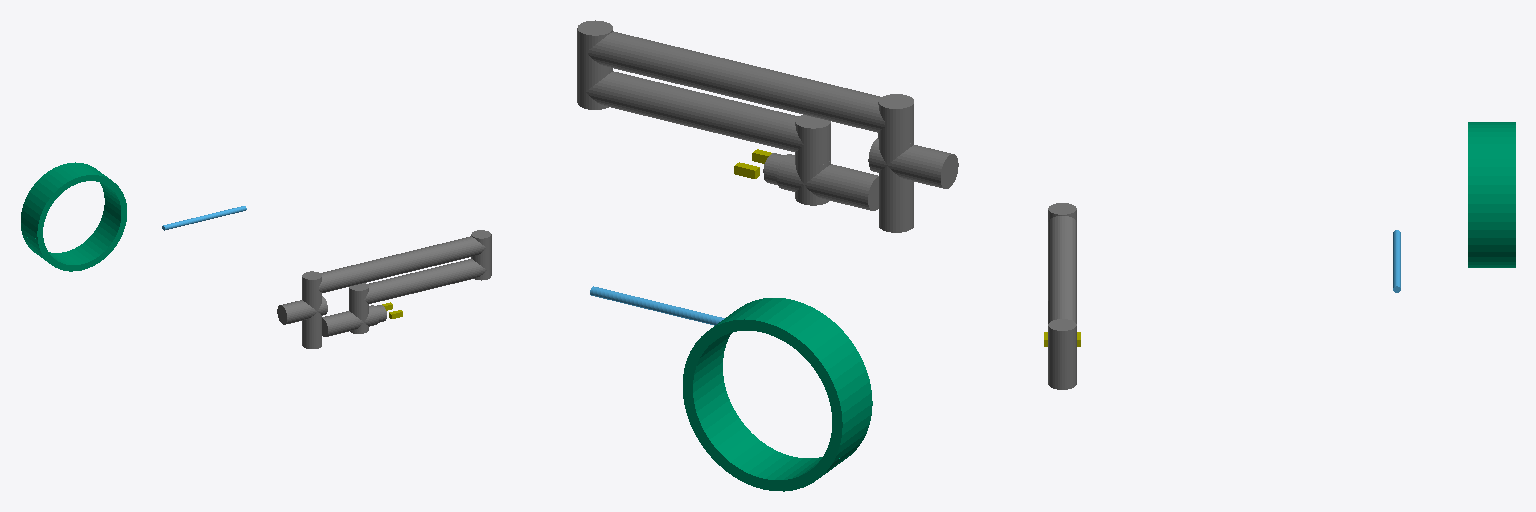
--- Render facts (derived) ---
The picture shows the robot from 3 angles, left to right: view 1: azimuth 30°, elevation 25°; view 2: azimuth 150°, elevation 25°; view 3: azimuth 270°, elevation 25°; orthographic projection.
Model satellite_with_arm with 14 links and 13 joints (7 revolute, 2 prismatic, 4 fixed), rooted at satellite_with_arm, posed all joints at 0 but 2 set to mid-range because 0 is outside their limits (finger_right_prismatic = 0.055, finger_left_prismatic = 0.055).
Links seen in each view (by area): view 1: base_ring, Link2, Link4, Link5, Link3, Link6, Link1; view 2: base_ring, Link2, Link4, Link5, Link3, Link6, Link1, base_urdf, ring1; view 3: base_ring, Link2, Link3, Link4.
Boxes of the visible links, <box> form: base_ring: <box>21,162,126,271</box>; Link2: <box>302,247,434,300</box>; Link4: <box>410,255,491,293</box>; Link5: <box>349,274,415,311</box>; Link3: <box>429,230,491,265</box>; Link6: <box>322,305,378,336</box>; Link1: <box>295,296,327,348</box>; base_ring: <box>683,298,872,491</box>; Link2: <box>679,51,913,145</box>; Link4: <box>577,66,722,132</box>; Link5: <box>712,98,830,165</box>; Link3: <box>577,20,691,84</box>; Link6: <box>778,154,878,210</box>; Link1: <box>868,138,925,232</box>; base_urdf: <box>914,148,958,188</box>; ring1: <box>590,286,724,325</box>; base_ring: <box>1468,122,1515,267</box>; Link2: <box>1048,203,1076,300</box>; Link3: <box>1048,290,1076,360</box>; Link4: <box>1048,355,1076,389</box>.
Size in the robot's own frame: 2.64 by 2.48 by 0.7713 metres.
Meshes: 9 distinct files referenced, 8 mesh visuals loaded (8 binary STL); not drawn: 1 (reference not matched to a file when rendering).

robot.urdf — satellite_with_arm:
  
<robot name="satellite_with_arm">
  <material name="metal_grey">
    <color rgba="0.501960784313725 0.501960784313725 0.501960784313725 1"/>
  </material>
    <material name="yellow">
    <color rgba="0.7 0.7 0 1"/>
  </material>
  <link name="satellite_with_arm">
    <inertial>
      <mass value="100" />
      <!-- center of mass (com) is defined w.r.t. link local coordinate system -->
      <!-- give a little y-offset to make the top precess -->
      <origin xyz="0 0 0" /> 
      <inertia  ixx=" 45.3333" ixy="0.0"  ixz="0.0"  iyy=" 45.3333"  iyz="0.0"  izz="24" />
    </inertial>
       <visual>
      <origin xyz="0 0 0" rpy="1.5708 3.141592 3.141592" />
      <geometry>
        <mesh filename="meshes/visual/satellite_with_arm_VISUAL.obj"  />
      </geometry>
    </visual>

    <collision>
      <origin rpy="0 0 0" xyz="-0.14599 -0.63199 0"/>
   <geometry>
       <box size="1.2 2 1.2" />
     </geometry>
    </collision>
  </link>
  <link name="ring1">
 <inertial>
     <mass value="0" />
      <!-- center of mass (com) is defined w.r.t. link local coordinate system -->
      <!-- give a little y-offset to make the top precess -->
      <origin xyz="0 0 0" /> 
      <inertia  ixx="0.0" ixy="0.0"  ixz="0.0"  iyy="0.0"  iyz="0.0"  izz="0.0" />
    </inertial>
       <visual>
      <origin xyz="0 0 0" rpy="1.5708 0 1.5708"/> 
	<geometry>
       <cylinder radius="0.02" length="0.7"/>

     </geometry>
    </visual>    
    <collision>
      <origin xyz="0 0 0" rpy="1.5708 0 1.5708"/> 
	   <geometry>
       <cylinder radius="0.02" length="0.7"/>
            </geometry>
    </collision>    
    

</link>
<link name="base_ring">
 <inertial>
     <mass value="0" />
      <!-- center of mass (com) is defined w.r.t. link local coordinate system -->
      <!-- give a little y-offset to make the top precess -->
      <origin xyz="0 -0.512734 0" /> 
      <inertia  ixx="0.0" ixy="0.0"  ixz="0.0"  iyy="0.0"  iyz="0.0"  izz="0.0" />
    </inertial>
<visual> <origin xyz='0.36 0 0 ' rpy = '0 0 0'/> 	   <geometry><box size='0.05 0.25 0.05' /></geometry> </visual> 
<visual> <origin xyz='0.35704 0 0.046036 ' rpy = '0 -0.12823 0'/> 	   <geometry><box size='0.05 0.25 0.05' /></geometry> </visual> 
<visual> <origin xyz='0.34823 0 0.091316 ' rpy = '0 -0.25646 0'/> 	   <geometry><box size='0.05 0.25 0.05' /></geometry> </visual> 
<visual> <origin xyz='0.33369 0 0.1351 ' rpy = '0 -0.38468 0'/> 	   <geometry><box size='0.05 0.25 0.05' /></geometry> </visual> 
<visual> <origin xyz='0.31367 0 0.17666 ' rpy = '0 -0.51291 0'/> 	   <geometry><box size='0.05 0.25 0.05' /></geometry> </visual> 
<visual> <origin xyz='0.28851 0 0.21532 ' rpy = '0 -0.64114 0'/> 	   <geometry><box size='0.05 0.25 0.05' /></geometry> </visual> 
<visual> <origin xyz='0.25861 0 0.25045 ' rpy = '0 -0.76937 0'/> 	   <geometry><box size='0.05 0.25 0.05' /></geometry> </visual> 
<visual> <origin xyz='0.22446 0 0.28146 ' rpy = '0 -0.8976 0'/> 	   <geometry><box size='0.05 0.25 0.05' /></geometry> </visual> 
<visual> <origin xyz='0.18662 0 0.30785 ' rpy = '0 -1.0258 0'/> 	   <geometry><box size='0.05 0.25 0.05' /></geometry> </visual> 
<visual> <origin xyz='0.14572 0 0.32919 ' rpy = '0 -1.1541 0'/> 	   <geometry><box size='0.05 0.25 0.05' /></geometry> </visual> 
<visual> <origin xyz='0.10243 0 0.34512 ' rpy = '0 -1.2823 0'/> 	   <geometry><box size='0.05 0.25 0.05' /></geometry> </visual> 
<visual> <origin xyz='0.057456 0 0.35539 ' rpy = '0 -1.4105 0'/> 	   <geometry><box size='0.05 0.25 0.05' /></geometry> </visual> 
<visual> <origin xyz='0.011539 0 0.35982 ' rpy = '0 -1.5387 0'/> 	   <geometry><box size='0.05 0.25 0.05' /></geometry> </visual> 
<visual> <origin xyz='-0.034568 0 0.35834 ' rpy = '0 -1.667 0'/> 	   <geometry><box size='0.05 0.25 0.05' /></geometry> </visual> 
<visual> <origin xyz='-0.080108 0 0.35097 ' rpy = '0 -1.7952 0'/> 	   <geometry><box size='0.05 0.25 0.05' /></geometry> </visual> 
<visual> <origin xyz='-0.12433 0 0.33785 ' rpy = '0 -1.9234 0'/> 	   <geometry><box size='0.05 0.25 0.05' /></geometry> </visual> 
<visual> <origin xyz='-0.16651 0 0.31918 ' rpy = '0 -2.0517 0'/> 	   <geometry><box size='0.05 0.25 0.05' /></geometry> </visual> 
<visual> <origin xyz='-0.20596 0 0.29526 ' rpy = '0 -2.1799 0'/> 	   <geometry><box size='0.05 0.25 0.05' /></geometry> </visual> 
<visual> <origin xyz='-0.24203 0 0.2665 ' rpy = '0 -2.3081 0'/> 	   <geometry><box size='0.05 0.25 0.05' /></geometry> </visual> 
<visual> <origin xyz='-0.27412 0 0.23336 ' rpy = '0 -2.4363 0'/> 	   <geometry><box size='0.05 0.25 0.05' /></geometry> </visual> 
<visual> <origin xyz='-0.30171 0 0.19639 ' rpy = '0 -2.5646 0'/> 	   <geometry><box size='0.05 0.25 0.05' /></geometry> </visual> 
<visual> <origin xyz='-0.32435 0 0.1562 ' rpy = '0 -2.6928 0'/> 	   <geometry><box size='0.05 0.25 0.05' /></geometry> </visual> 
<visual> <origin xyz='-0.34166 0 0.11344 ' rpy = '0 -2.821 0'/> 	   <geometry><box size='0.05 0.25 0.05' /></geometry> </visual> 
<visual> <origin xyz='-0.35336 0 0.068817 ' rpy = '0 -2.9493 0'/> 	   <geometry><box size='0.05 0.25 0.05' /></geometry> </visual> 
<visual> <origin xyz='-0.35926 0 0.023065 ' rpy = '0 -3.0775 0'/> 	   <geometry><box size='0.05 0.25 0.05' /></geometry> </visual> 
<visual> <origin xyz='-0.35926 0 -0.023065 ' rpy = '0 -3.2057 0'/> 	   <geometry><box size='0.05 0.25 0.05' /></geometry> </visual> 
<visual> <origin xyz='-0.35336 0 -0.068817 ' rpy = '0 -3.3339 0'/> 	   <geometry><box size='0.05 0.25 0.05' /></geometry> </visual> 
<visual> <origin xyz='-0.34166 0 -0.11344 ' rpy = '0 -3.4622 0'/> 	   <geometry><box size='0.05 0.25 0.05' /></geometry> </visual> 
<visual> <origin xyz='-0.32435 0 -0.1562 ' rpy = '0 -3.5904 0'/> 	   <geometry><box size='0.05 0.25 0.05' /></geometry> </visual> 
<visual> <origin xyz='-0.30171 0 -0.19639 ' rpy = '0 -3.7186 0'/> 	   <geometry><box size='0.05 0.25 0.05' /></geometry> </visual> 
<visual> <origin xyz='-0.27412 0 -0.23336 ' rpy = '0 -3.8468 0'/> 	   <geometry><box size='0.05 0.25 0.05' /></geometry> </visual> 
<visual> <origin xyz='-0.24203 0 -0.2665 ' rpy = '0 -3.9751 0'/> 	   <geometry><box size='0.05 0.25 0.05' /></geometry> </visual> 
<visual> <origin xyz='-0.20596 0 -0.29526 ' rpy = '0 -4.1033 0'/> 	   <geometry><box size='0.05 0.25 0.05' /></geometry> </visual> 
<visual> <origin xyz='-0.16651 0 -0.31918 ' rpy = '0 -4.2315 0'/> 	   <geometry><box size='0.05 0.25 0.05' /></geometry> </visual> 
<visual> <origin xyz='-0.12433 0 -0.33785 ' rpy = '0 -4.3598 0'/> 	   <geometry><box size='0.05 0.25 0.05' /></geometry> </visual> 
<visual> <origin xyz='-0.080108 0 -0.35097 ' rpy = '0 -4.488 0'/> 	   <geometry><box size='0.05 0.25 0.05' /></geometry> </visual> 
<visual> <origin xyz='-0.034568 0 -0.35834 ' rpy = '0 -4.6162 0'/> 	   <geometry><box size='0.05 0.25 0.05' /></geometry> </visual> 
<visual> <origin xyz='0.011539 0 -0.35982 ' rpy = '0 -4.7444 0'/> 	   <geometry><box size='0.05 0.25 0.05' /></geometry> </visual> 
<visual> <origin xyz='0.057456 0 -0.35539 ' rpy = '0 -4.8727 0'/> 	   <geometry><box size='0.05 0.25 0.05' /></geometry> </visual> 
<visual> <origin xyz='0.10243 0 -0.34512 ' rpy = '0 -5.0009 0'/> 	   <geometry><box size='0.05 0.25 0.05' /></geometry> </visual> 
<visual> <origin xyz='0.14572 0 -0.32919 ' rpy = '0 -5.1291 0'/> 	   <geometry><box size='0.05 0.25 0.05' /></geometry> </visual> 
<visual> <origin xyz='0.18662 0 -0.30785 ' rpy = '0 -5.2574 0'/> 	   <geometry><box size='0.05 0.25 0.05' /></geometry> </visual> 
<visual> <origin xyz='0.22446 0 -0.28146 ' rpy = '0 -5.3856 0'/> 	   <geometry><box size='0.05 0.25 0.05' /></geometry> </visual> 
<visual> <origin xyz='0.25861 0 -0.25045 ' rpy = '0 -5.5138 0'/> 	   <geometry><box size='0.05 0.25 0.05' /></geometry> </visual> 
<visual> <origin xyz='0.28851 0 -0.21532 ' rpy = '0 -5.642 0'/> 	   <geometry><box size='0.05 0.25 0.05' /></geometry> </visual> 
<visual> <origin xyz='0.31367 0 -0.17666 ' rpy = '0 -5.7703 0'/> 	   <geometry><box size='0.05 0.25 0.05' /></geometry> </visual> 
<visual> <origin xyz='0.33369 0 -0.1351 ' rpy = '0 -5.8985 0'/> 	   <geometry><box size='0.05 0.25 0.05' /></geometry> </visual> 
<visual> <origin xyz='0.34823 0 -0.091316 ' rpy = '0 -6.0267 0'/> 	   <geometry><box size='0.05 0.25 0.05' /></geometry> </visual> 
<visual> <origin xyz='0.35704 0 -0.046036 ' rpy = '0 -6.155 0'/> 	   <geometry><box size='0.05 0.25 0.05' /></geometry> </visual> 
<visual> <origin xyz='0.36 0 -8.8175e-17 ' rpy = '0 -6.2832 0'/> 	   <geometry><box size='0.05 0.25 0.05' /></geometry> </visual> 
<collision> <origin xyz='0.36 0 0 ' rpy = '0 0 0'/> 	   <geometry><box size='0.05 0.25 0.05' /></geometry> </collision> 
<collision> <origin xyz='0.35704 0 0.046036 ' rpy = '0 -0.12823 0'/> 	   <geometry><box size='0.05 0.25 0.05' /></geometry> </collision> 
<collision> <origin xyz='0.34823 0 0.091316 ' rpy = '0 -0.25646 0'/> 	   <geometry><box size='0.05 0.25 0.05' /></geometry> </collision> 
<collision> <origin xyz='0.33369 0 0.1351 ' rpy = '0 -0.38468 0'/> 	   <geometry><box size='0.05 0.25 0.05' /></geometry> </collision> 
<collision> <origin xyz='0.31367 0 0.17666 ' rpy = '0 -0.51291 0'/> 	   <geometry><box size='0.05 0.25 0.05' /></geometry> </collision> 
<collision> <origin xyz='0.28851 0 0.21532 ' rpy = '0 -0.64114 0'/> 	   <geometry><box size='0.05 0.25 0.05' /></geometry> </collision> 
<collision> <origin xyz='0.25861 0 0.25045 ' rpy = '0 -0.76937 0'/> 	   <geometry><box size='0.05 0.25 0.05' /></geometry> </collision> 
<collision> <origin xyz='0.22446 0 0.28146 ' rpy = '0 -0.8976 0'/> 	   <geometry><box size='0.05 0.25 0.05' /></geometry> </collision> 
<collision> <origin xyz='0.18662 0 0.30785 ' rpy = '0 -1.0258 0'/> 	   <geometry><box size='0.05 0.25 0.05' /></geometry> </collision> 
<collision> <origin xyz='0.14572 0 0.32919 ' rpy = '0 -1.1541 0'/> 	   <geometry><box size='0.05 0.25 0.05' /></geometry> </collision> 
<collision> <origin xyz='0.10243 0 0.34512 ' rpy = '0 -1.2823 0'/> 	   <geometry><box size='0.05 0.25 0.05' /></geometry> </collision> 
<collision> <origin xyz='0.057456 0 0.35539 ' rpy = '0 -1.4105 0'/> 	   <geometry><box size='0.05 0.25 0.05' /></geometry> </collision> 
<collision> <origin xyz='0.011539 0 0.35982 ' rpy = '0 -1.5387 0'/> 	   <geometry><box size='0.05 0.25 0.05' /></geometry> </collision> 
<collision> <origin xyz='-0.034568 0 0.35834 ' rpy = '0 -1.667 0'/> 	   <geometry><box size='0.05 0.25 0.05' /></geometry> </collision> 
<collision> <origin xyz='-0.080108 0 0.35097 ' rpy = '0 -1.7952 0'/> 	   <geometry><box size='0.05 0.25 0.05' /></geometry> </collision> 
<collision> <origin xyz='-0.12433 0 0.33785 ' rpy = '0 -1.9234 0'/> 	   <geometry><box size='0.05 0.25 0.05' /></geometry> </collision> 
<collision> <origin xyz='-0.16651 0 0.31918 ' rpy = '0 -2.0517 0'/> 	   <geometry><box size='0.05 0.25 0.05' /></geometry> </collision> 
<collision> <origin xyz='-0.20596 0 0.29526 ' rpy = '0 -2.1799 0'/> 	   <geometry><box size='0.05 0.25 0.05' /></geometry> </collision> 
<collision> <origin xyz='-0.24203 0 0.2665 ' rpy = '0 -2.3081 0'/> 	   <geometry><box size='0.05 0.25 0.05' /></geometry> </collision> 
<collision> <origin xyz='-0.27412 0 0.23336 ' rpy = '0 -2.4363 0'/> 	   <geometry><box size='0.05 0.25 0.05' /></geometry> </collision> 
<collision> <origin xyz='-0.30171 0 0.19639 ' rpy = '0 -2.5646 0'/> 	   <geometry><box size='0.05 0.25 0.05' /></geometry> </collision> 
<collision> <origin xyz='-0.32435 0 0.1562 ' rpy = '0 -2.6928 0'/> 	   <geometry><box size='0.05 0.25 0.05' /></geometry> </collision> 
<collision> <origin xyz='-0.34166 0 0.11344 ' rpy = '0 -2.821 0'/> 	   <geometry><box size='0.05 0.25 0.05' /></geometry> </collision> 
<collision> <origin xyz='-0.35336 0 0.068817 ' rpy = '0 -2.9493 0'/> 	   <geometry><box size='0.05 0.25 0.05' /></geometry> </collision> 
<collision> <origin xyz='-0.35926 0 0.023065 ' rpy = '0 -3.0775 0'/> 	   <geometry><box size='0.05 0.25 0.05' /></geometry> </collision> 
<collision> <origin xyz='-0.35926 0 -0.023065 ' rpy = '0 -3.2057 0'/> 	   <geometry><box size='0.05 0.25 0.05' /></geometry> </collision> 
<collision> <origin xyz='-0.35336 0 -0.068817 ' rpy = '0 -3.3339 0'/> 	   <geometry><box size='0.05 0.25 0.05' /></geometry> </collision> 
<collision> <origin xyz='-0.34166 0 -0.11344 ' rpy = '0 -3.4622 0'/> 	   <geometry><box size='0.05 0.25 0.05' /></geometry> </collision> 
<collision> <origin xyz='-0.32435 0 -0.1562 ' rpy = '0 -3.5904 0'/> 	   <geometry><box size='0.05 0.25 0.05' /></geometry> </collision> 
<collision> <origin xyz='-0.30171 0 -0.19639 ' rpy = '0 -3.7186 0'/> 	   <geometry><box size='0.05 0.25 0.05' /></geometry> </collision> 
<collision> <origin xyz='-0.27412 0 -0.23336 ' rpy = '0 -3.8468 0'/> 	   <geometry><box size='0.05 0.25 0.05' /></geometry> </collision> 
<collision> <origin xyz='-0.24203 0 -0.2665 ' rpy = '0 -3.9751 0'/> 	   <geometry><box size='0.05 0.25 0.05' /></geometry> </collision> 
<collision> <origin xyz='-0.20596 0 -0.29526 ' rpy = '0 -4.1033 0'/> 	   <geometry><box size='0.05 0.25 0.05' /></geometry> </collision> 
<collision> <origin xyz='-0.16651 0 -0.31918 ' rpy = '0 -4.2315 0'/> 	   <geometry><box size='0.05 0.25 0.05' /></geometry> </collision> 
<collision> <origin xyz='-0.12433 0 -0.33785 ' rpy = '0 -4.3598 0'/> 	   <geometry><box size='0.05 0.25 0.05' /></geometry> </collision> 
<collision> <origin xyz='-0.080108 0 -0.35097 ' rpy = '0 -4.488 0'/> 	   <geometry><box size='0.05 0.25 0.05' /></geometry> </collision> 
<collision> <origin xyz='-0.034568 0 -0.35834 ' rpy = '0 -4.6162 0'/> 	   <geometry><box size='0.05 0.25 0.05' /></geometry> </collision> 
<collision> <origin xyz='0.011539 0 -0.35982 ' rpy = '0 -4.7444 0'/> 	   <geometry><box size='0.05 0.25 0.05' /></geometry> </collision> 
<collision> <origin xyz='0.057456 0 -0.35539 ' rpy = '0 -4.8727 0'/> 	   <geometry><box size='0.05 0.25 0.05' /></geometry> </collision> 
<collision> <origin xyz='0.10243 0 -0.34512 ' rpy = '0 -5.0009 0'/> 	   <geometry><box size='0.05 0.25 0.05' /></geometry> </collision> 
<collision> <origin xyz='0.14572 0 -0.32919 ' rpy = '0 -5.1291 0'/> 	   <geometry><box size='0.05 0.25 0.05' /></geometry> </collision> 
<collision> <origin xyz='0.18662 0 -0.30785 ' rpy = '0 -5.2574 0'/> 	   <geometry><box size='0.05 0.25 0.05' /></geometry> </collision> 
<collision> <origin xyz='0.22446 0 -0.28146 ' rpy = '0 -5.3856 0'/> 	   <geometry><box size='0.05 0.25 0.05' /></geometry> </collision> 
<collision> <origin xyz='0.25861 0 -0.25045 ' rpy = '0 -5.5138 0'/> 	   <geometry><box size='0.05 0.25 0.05' /></geometry> </collision> 
<collision> <origin xyz='0.28851 0 -0.21532 ' rpy = '0 -5.642 0'/> 	   <geometry><box size='0.05 0.25 0.05' /></geometry> </collision> 
<collision> <origin xyz='0.31367 0 -0.17666 ' rpy = '0 -5.7703 0'/> 	   <geometry><box size='0.05 0.25 0.05' /></geometry> </collision> 
<collision> <origin xyz='0.33369 0 -0.1351 ' rpy = '0 -5.8985 0'/> 	   <geometry><box size='0.05 0.25 0.05' /></geometry> </collision> 
<collision> <origin xyz='0.34823 0 -0.091316 ' rpy = '0 -6.0267 0'/> 	   <geometry><box size='0.05 0.25 0.05' /></geometry> </collision> 
<collision> <origin xyz='0.35704 0 -0.046036 ' rpy = '0 -6.155 0'/> 	   <geometry><box size='0.05 0.25 0.05' /></geometry> </collision> 
<collision> <origin xyz='0.36 0 -8.8175e-17 ' rpy = '0 -6.2832 0'/> 	   <geometry><box size='0.05 0.25 0.05' /></geometry> </collision>  
</link>

  <link name="base_urdf">
    <inertial>
      <origin xyz="0 0 0" rpy="0 0 0" />
      <mass value="4.48218" />
      <inertia
        ixx=" 0.04755097476"
        ixy=" 0.00000000000"
        ixz=" 0.00000000000"
        iyy=" 0.04755157166"
        iyz="-0.00000000081"
        izz=" 0.00981063776" />
    </inertial>

    <visual>
      <origin xyz="0 0 0" rpy="0 0 0" />
      <geometry>
        <mesh filename="meshes/base.stl" />
      </geometry>
      <material name="metal_grey"/>
    </visual>

    <collision>
      <origin rpy="0 0 0" xyz="0 0 0"/>
      <geometry>
        <mesh filename="meshes/base.stl"/>
      </geometry>
    </collision>
  </link>

<!-- link1-->
  <link name="Link1">
    <inertial>
      <origin xyz="0 0 0" rpy="0 0 0" />
      <mass value="6.68036" />
      <inertia
        ixx=" 0.10111928569"
        ixy=" 0.00000008334"
        ixz=" 0.03015133480"
        iyy=" 0.18848740784"
        iyz="-0.00000017706"
        izz=" 0.10400188938" />
    </inertial>

    <visual>
      <origin xyz="0 0 0" rpy="0 0 0" />
      <geometry>
        <mesh filename="meshes/link1.stl" />
      </geometry>
      <material name="metal_grey"/>
    </visual>

    <collision>
      <origin rpy="0 0 0" xyz="0 0 0"/>
      <geometry>
        <mesh filename="meshes/link1.stl"/>
      </geometry>
    </collision>
  </link>

<!-- link2-->
  <link name="Link2">
    <inertial>
      <origin xyz="0 0 0" rpy="0 0 0" />
      <mass value="11.79632" />
      <inertia
        ixx=" 4.91550234685"
        ixy=" 0.00000014822"
        ixz="-0.50555195363"
        iyy=" 4.98412972242"
        iyz=" 0.00000019211"
        izz=" 0.09931438243" />
    </inertial>

    <visual>
      <origin xyz="0 0 0" rpy="0 0 0" />
      <geometry>
        <mesh filename="meshes/link2.stl" />
      </geometry>
      <material name="metal_grey"/>
    </visual>

    <collision>
      <origin rpy="0 0 0" xyz="0 0 0"/>
      <geometry>
        <mesh filename="meshes/link2.stl"/>
      </geometry>
    </collision>
  </link>

<!-- link3-->
  <link name="Link3">
    <inertial>
      <origin xyz="0 0 0" rpy="0 0 0" />
      <mass value="6.64337" />
      <inertia
        ixx=" 0.63648861546"
        ixy="-0.00000008021"
        ixz=" 0.05018998139"
        iyy=" 0.64404883542"
        iyz=" 0.00000051611"
        izz=" 0.02392204376" />
    </inertial>

    <visual>
      <origin xyz="0 0 0" rpy="0 0 0" />
      <geometry>
        <mesh filename="meshes/link3.stl" />
      </geometry>
      <material name="metal_grey"/>
    </visual>

    <collision>
      <origin rpy="0 0 0" xyz="0 0 0"/>
      <geometry>
        <mesh filename="meshes/link3.stl"/>
      </geometry>
    </collision>
  </link>

<!-- link4-->
  <link name="Link4">
    <inertial>
      <origin xyz="0 0 0" rpy="0 0 0" />
      <mass value="10.52407" />
      <inertia
        ixx=" 1.58306193195"
        ixy="-0.00000015788"
        ixz="-0.26496599873"
        iyy=" 1.64103561723"
        iyz="-0.00000014054"
        izz=" 0.08369098333" />
    </inertial>

    <visual>
      <origin xyz="0 0 0" rpy="0 0 0" />
      <geometry>
        <mesh filename="meshes/link4.stl" />
      </geometry>
      <material name="metal_grey"/>
    </visual>

    <collision>
      <origin rpy="0 0 0" xyz="0 0 0"/>
      <geometry>
        <mesh filename="meshes/link4.stl"/>
      </geometry>
    </collision>
  </link>

<!-- link5-->
  <link name="Link5">
    <inertial>
      <origin xyz="0 0 0" rpy="0 0 0" />
      <mass value="6.64337" />
      <inertia
        ixx=" 0.63648861546"
        ixy=" 0.00000008021"
        ixz="-0.05018998139"
        iyy=" 0.64404883542"
        iyz=" 0.00000051611"
        izz=" 0.02392204376" />
    </inertial>

    <visual>
      <origin xyz="0 0 0" rpy="0 0 0" />
      <geometry>
        <mesh filename="meshes/link5.stl" />
      </geometry>
      <material name="metal_grey"/>
    </visual>

    <collision>
      <origin rpy="0 0 0" xyz="0 0 0"/>
      <geometry>
        <mesh filename="meshes/link5.stl"/>
      </geometry>
    </collision>
  </link>

<!-- link6-->
  <link name="Link6">
    <inertial>
      <origin xyz="0 0 0" rpy="0 0 0" />
      <mass value="8.75036" />
      <inertia
        ixx=" 0.30380671545"
        ixy="-0.00000008334"
        ixz=" 0.02875889215"
        iyy=" 0.31843566669"
        iyz="-0.00000017706"
        izz=" 0.03617183352" />
    </inertial>

    <visual>
      <origin xyz="0 0 0" rpy="0 0 0" />
      <geometry>
        <mesh filename="meshes/link6.stl" />
      </geometry>
      <material name="metal_grey"/>
    </visual>

    <collision>
      <origin rpy="0 0 0" xyz="0 0 0"/>
      <geometry>
        <mesh filename="meshes/link6.stl"/>
      </geometry>
    </collision>
  </link>

<!-- link7-->
  <link name="Link7">
    <inertial>
      <origin xyz="0 0 0" rpy="0 0 0" />
      <mass value="4.49347" />
      <inertia
        ixx="0.00157801213"
        ixy="0.00000000000"
        ixz="0.00000000000"
        iyy="0.01157801213"
        iyz="0.00000000000"
        izz="0.00894926406" />
    </inertial>

    <visual>
      <origin xyz="0 0 0" rpy="0 0 0" />
      <geometry>
        <mesh filename="meshes/link7.stl" />
      </geometry>
      <material name="metal_grey"/>

    </visual>
    <collision>
      <origin rpy="0 0 0" xyz="0 0 0"/>
      <geometry>
        <mesh filename="meshes/link7.stl"/>
      </geometry>
    </collision>
  </link>

<!-- tcp-->
  <link name="tcp">
    <inertial>
      <mass value="0.0"/>
      <origin rpy="0 0 0" xyz="0.0 0.0 0.0"/>
      <inertia ixx="0.0" ixy="0.0" ixz="0.0" iyy="0.0" iyz="0.0" izz="0.0"/>
    </inertial>

    <collision>
      <geometry>
        <box size="0.00 0.00 0.00"/>
      </geometry>
      <origin rpy="0 0 0" xyz="0.00 0 0"/>
    </collision>
  </link>

  <link name="finger_right">
    <inertial>
      <mass value="0.1"/>
      <origin rpy="0 0 0" xyz="0.0 0.0 0.0"/>
      <inertia ixx="0.0" ixy="0.0" ixz="0.0" iyy="0.0" iyz="0.0" izz="0.0"/>
    </inertial>
    <visual>
      <geometry>
        <box size="0.04 0.04 0.1"/>
      </geometry>
      <origin rpy="0 0 0" xyz="0.00 0 0"/>
            <material name="yellow"/>

    </visual>
    
    <collision>
      <geometry>
        <box size="0.04 0.04 0.1"/>
      </geometry>
      <origin rpy="0 0 0" xyz="0.00 0 0"/>
    </collision>
      <contact>
      <lateral_friction value="1.0"/>
      <inertia_scaling value="3.0"/>
    </contact>
  </link>
  <link name="finger_left">
    <inertial>
      <mass value="0.1"/>
      <origin rpy="0 0 0" xyz="0.0 0.0 0.0"/>
      <inertia ixx="0.0" ixy="0.0" ixz="0.0" iyy="0.0" iyz="0.0" izz="0.0"/>
    </inertial>
    <visual>
      <geometry>
        <box size="0.04 0.04 0.1"/>
      </geometry>
      <origin rpy="0 0 0" xyz="0.00 0 0"/>
        <material name="yellow"/>

    </visual>
    <collision>
      <geometry>
        <box size="0.04 0.04 0.1"/>
      </geometry>
      <origin rpy="0 0 0" xyz="0.00 0 0"/>
    </collision>
      <contact>
      <lateral_friction value="1.0"/>
      <inertia_scaling value="3.0"/>
    </contact>
  </link>

  
  <joint name="ring1_fixed" type="fixed">
    <origin xyz="0.82924 0 0" rpy="0 0 0" />
    <parent link="satellite_with_arm" />
    <child link="ring1" />
  </joint>
      <joint name="base_ring_fixed" type="fixed">
    <origin xyz="0 0.5  0" rpy="0 0 0" />
    <parent link="satellite_with_arm" />
    <child link="base_ring" />
  </joint>
    <joint name="satellite_with_arm_fixed" type="fixed">
    <origin xyz="0.47855 -1.7638 0" rpy="0 1.5708 0" />
    <parent link="satellite_with_arm" />
    <child link="base_urdf" />
  </joint>
  
  
<!-- joint1-->
  <joint name="Joint1" type="revolute">
    <origin xyz="0 0 0.128" rpy="0 0 0" />
    <parent link="base_urdf" />
    <child link="Link1" />
    <axis xyz="0 0 1" />
    <limit
      lower="-6.28"
      upper="6.28"
      effort="100"
      velocity="20" />
  </joint>

<!-- joint2-->
  <joint name="Joint2" type="revolute">
    <origin xyz="-0.0915 0 0.128" rpy="0 0 0" />
    <parent link="Link1" />
    <child link="Link2" />
    <axis xyz="-1 0 0" />
    <limit
      lower="-6.28"
      upper="6.28"
      effort="100"
      velocity="20" />
  </joint>

<!-- joint3-->
  <joint name="Joint3" type="revolute">
    <origin xyz="-0.0915 0 1.0045" rpy="0 0 0" />
    <parent link="Link2" />
    <child link="Link3" />
    <axis xyz="0 0 1" />
    <limit
      lower="-6.28"
      upper="6.28"
      effort="100"
      velocity="20" />
  </joint>

<!-- joint4-->
  <joint name="Joint4" type="revolute">
    <origin xyz="0.0915 0 0.4455" rpy="0 0 0" />
    <parent link="Link3" />
    <child link="Link4" />
    <axis xyz="1 0 0" />
    <limit
      lower="-6.28"
      upper="6.28"
      effort="100"
      velocity="20" />
  </joint>

<!-- joint5-->
  <joint name="Joint5" type="revolute">
    <origin xyz="0.0915 0 -0.6045" rpy="0 0 0" />
    <parent link="Link4" />
    <child link="Link5" />
    <axis xyz="0 0 -1" />
    <limit
      lower="-6.28"
      upper="6.28"
      effort="100"
      velocity="20" />
  </joint>

<!-- joint6-->
  <joint name="Joint6" type="revolute">
    <origin xyz="0.0915 0 -0.4455" rpy="0 0 0" />
    <parent link="Link5" />
    <child link="Link6" />
    <axis xyz="1 0 0" />
    <limit
      lower="-6.28"
      upper="6.28"
      effort="100"
      velocity="20" />
  </joint>

<!-- joint7-->
  <joint name="Joint7" type="revolute">
    <origin xyz="0.0915 0 0.128" rpy="0 0 0" />
    <parent link="Link6" />
    <child link="Link7" />
    <axis xyz="0 0 1" />
    <limit
      lower="-6.28"
      upper="6.28"
      effort="100"
      velocity="20" />
  </joint>

  <joint name="tcp" type="fixed">
    <origin xyz="0 0 0.087" rpy="0 0 0"/>
    <parent link="Link7"/>
    <child link="tcp"/>
  </joint>

 
  <joint name="finger_right_prismatic" type="prismatic">
    <origin xyz="0 0.02 0.06" rpy="0 0 0"/>
    <axis xyz="0 1 0"/>
    <parent link="tcp"/>
    <child link="finger_right"/>
    <limit effort="20" lower="0.01" upper="0.1" velocity="0.3"/>
  </joint>
  <joint name="finger_left_prismatic" type="prismatic">
    <origin xyz="0 -0.02 0.06" rpy="0 0 0"/>
    <axis xyz="0 -1 0"/>
    <parent link="tcp"/>
    <child link="finger_left"/>
    <limit effort="20" lower="0.01" upper="0.1" velocity="0.3"/>
  </joint>  
</robot>
